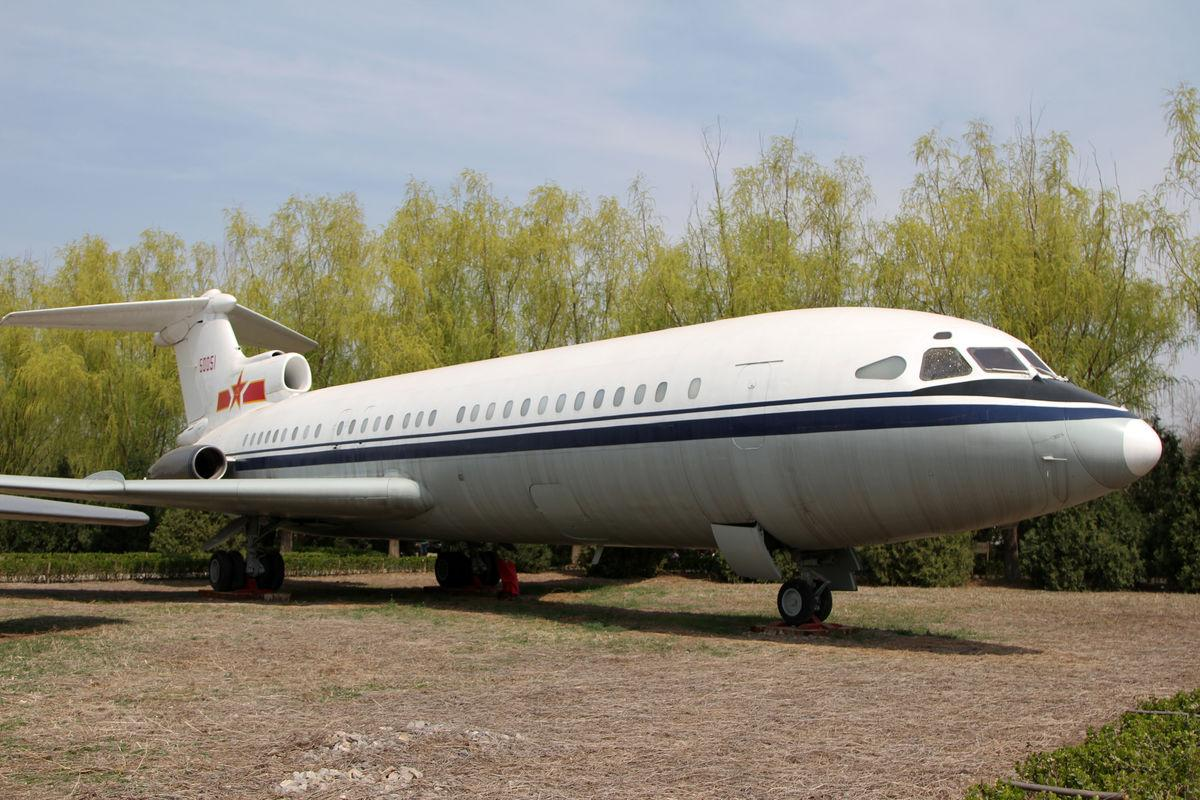airplane: (1, 283, 1164, 626)
